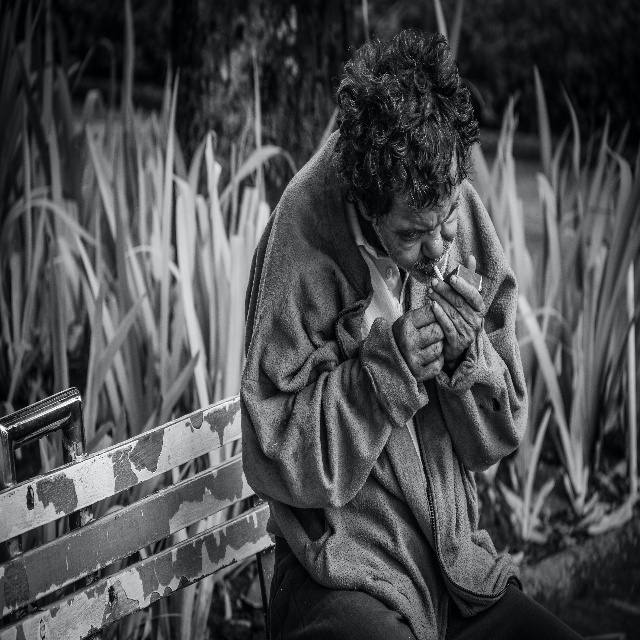Sin_guantes: (426, 274, 486, 363), (391, 304, 445, 383)
